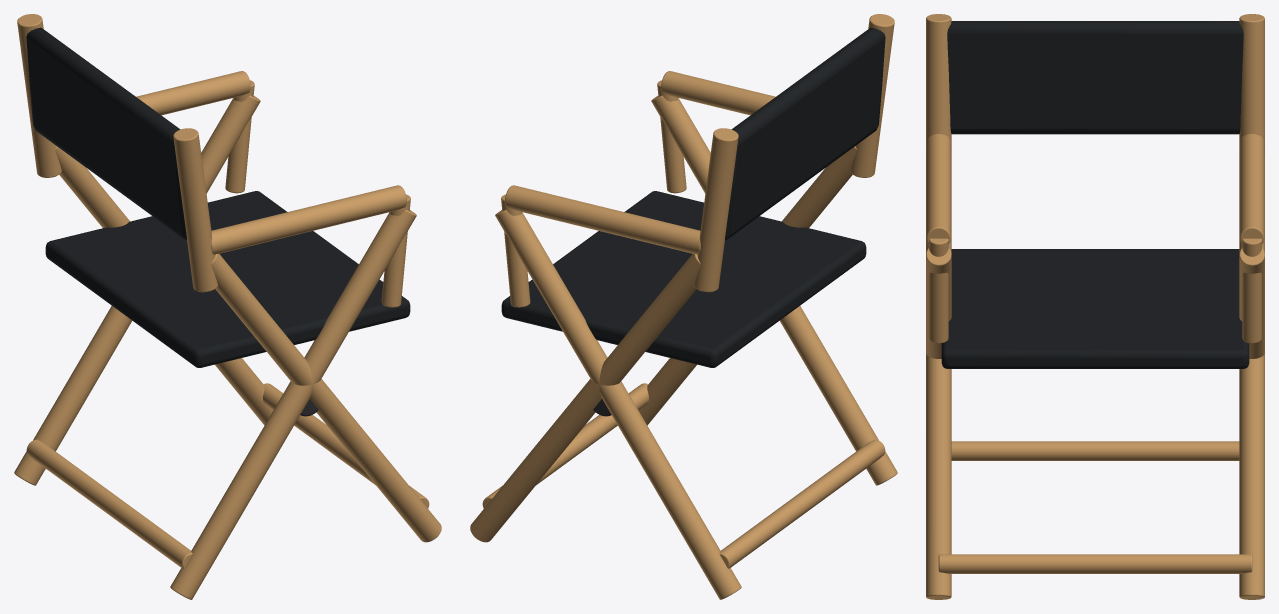
Rendered from silla_director.glb.
3 renders of one model, left to right at view 1: azimuth 30°, elevation 25°; view 2: azimuth 150°, elevation 25°; view 3: azimuth 270°, elevation 25°, orthographic.
Parts seen in each view (by area): view 1: Silla de director baja; view 2: Silla de director baja; view 3: Silla de director baja.
Part boxes in pixels (x1,y1,x2,y2): Silla de director baja: (14,14,441,599); Silla de director baja: (470,14,897,599); Silla de director baja: (926,14,1264,599).
Size of the model in its own units: 0.5342 by 0.8899 by 0.584.
